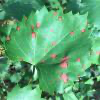grape leaf black rot: (3, 6, 97, 95)
